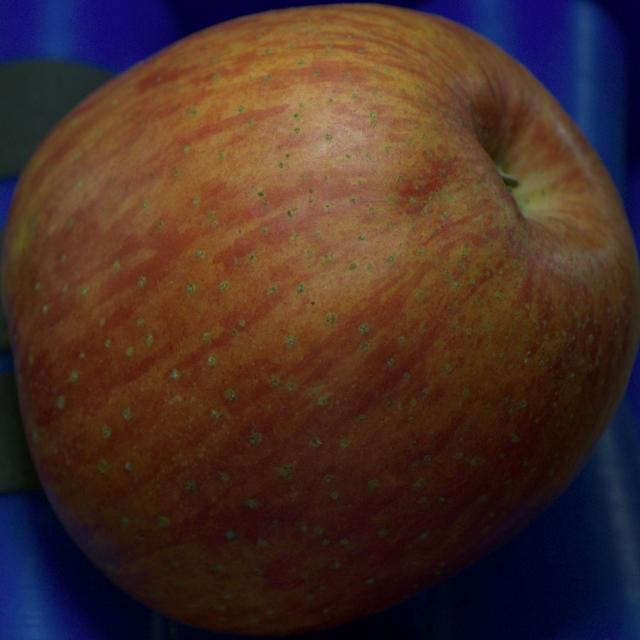apple: (2, 4, 639, 634)
